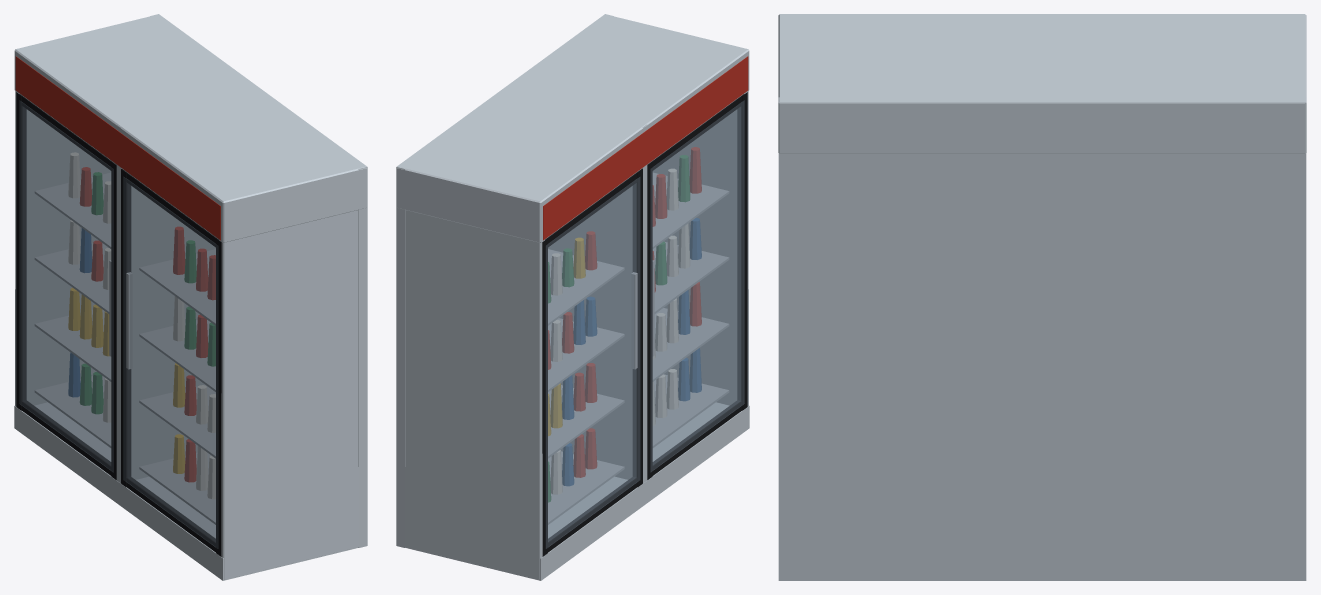
The model's file is fridge.glb.
The picture shows the model from 3 angles, left to right: view 1: azimuth 30°, elevation 25°; view 2: azimuth 150°, elevation 25°; view 3: azimuth 270°, elevation 25°; orthographic projection. The views are drawn at different scales.
Visible parts, largest first — view 1: fridge; view 2: fridge; view 3: fridge.
Part boxes in pixels (x1,y1,x2,y2): fridge: (14, 14, 367, 580); fridge: (396, 14, 749, 580); fridge: (778, 14, 1306, 580).
Size of the model in its own units: 0.802 by 2 by 2.
